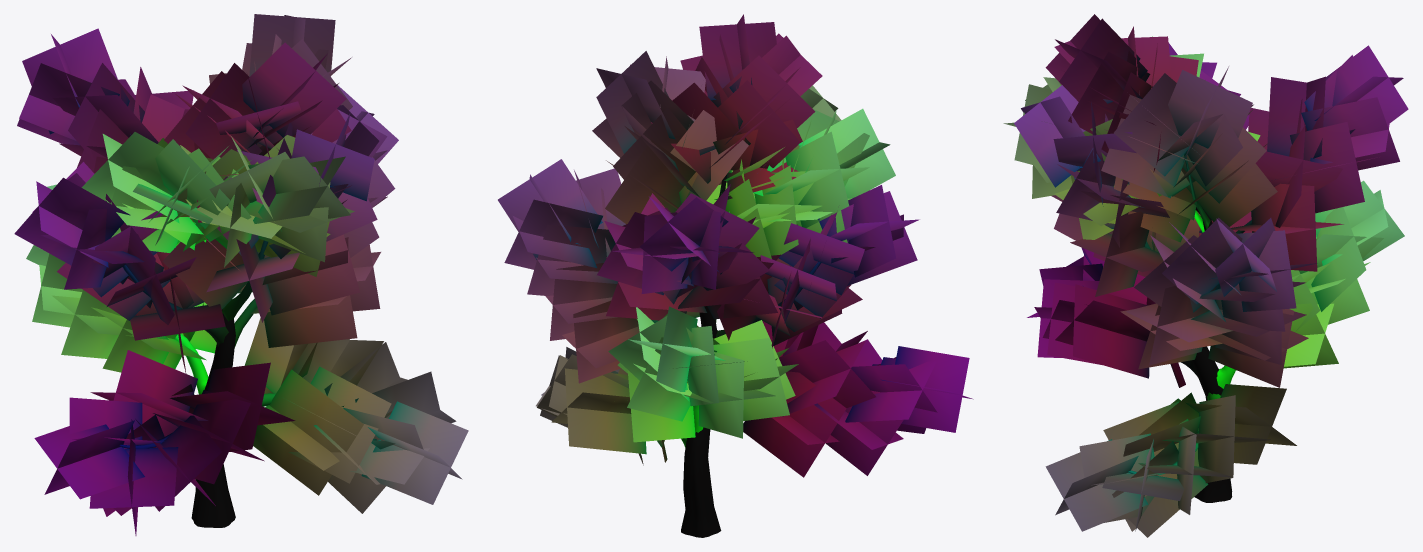
The model's file is URP_P11_Tree_2_LOD_1.fbx.
The picture shows the model from 3 angles, left to right: view 1: azimuth 30°, elevation 25°; view 2: azimuth 150°, elevation 25°; view 3: azimuth 270°, elevation 25°; orthographic projection. The views are drawn at different scales.
Visible parts, largest first — view 1: Tree_2_LOD_1; view 2: Tree_2_LOD_1; view 3: Tree_2_LOD_1.
Boxes of the visible parts, x1,y1,x2,y2 form: Tree_2_LOD_1: (14, 14, 468, 535); Tree_2_LOD_1: (498, 14, 973, 537); Tree_2_LOD_1: (1003, 14, 1408, 537).
Size of the model in its own units: 589 by 692 by 529.
